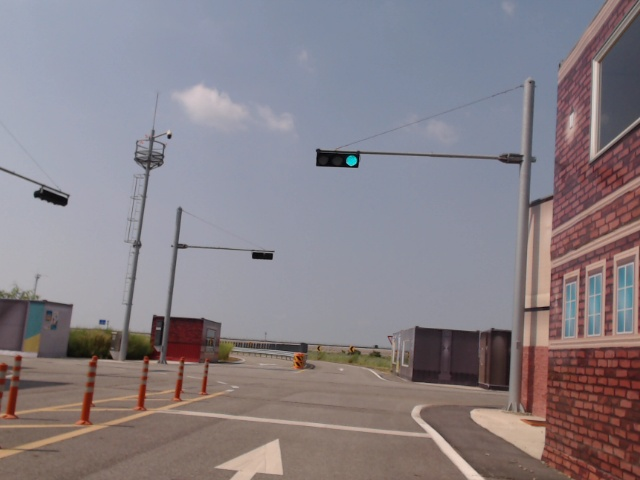green_3: (316, 152, 360, 168)
